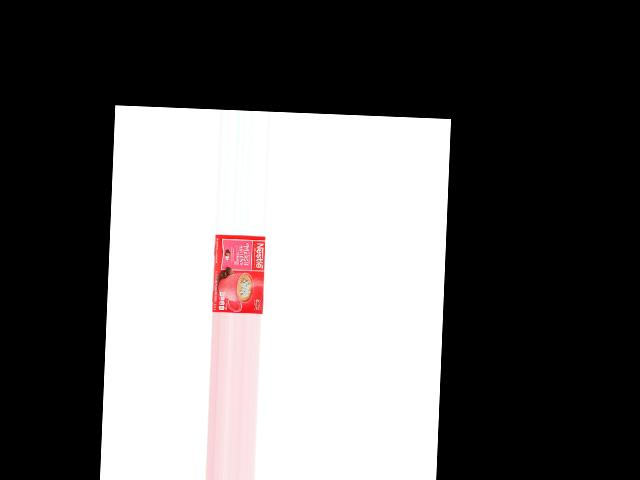chocolate: (208, 236, 263, 314)
